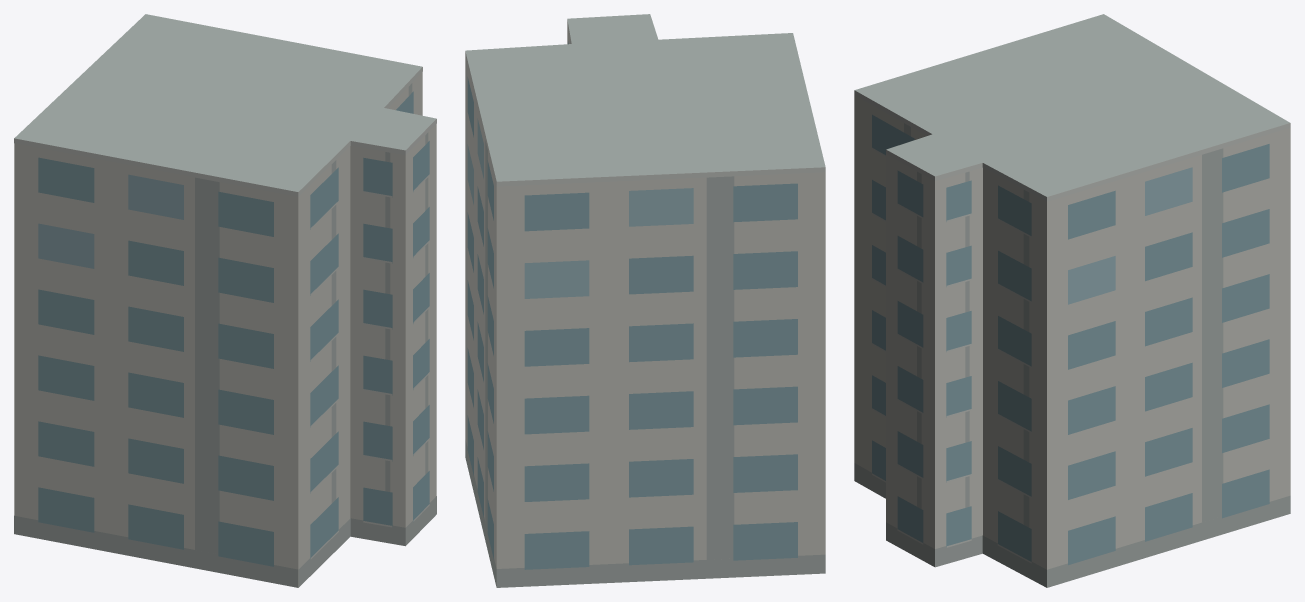
File: survey-upis-32677872.glb
The picture shows the model from 3 angles, left to right: view 1: azimuth 30°, elevation 25°; view 2: azimuth 150°, elevation 25°; view 3: azimuth 270°, elevation 25°; orthographic projection. The views are drawn at different scales.
Visible parts, largest first — view 1: survey-upis-32677872.tmp; view 2: survey-upis-32677872.tmp; view 3: survey-upis-32677872.tmp.
Part boxes in pixels (bbox=[...]): survey-upis-32677872.tmp: bbox=[14, 14, 436, 587]; survey-upis-32677872.tmp: bbox=[465, 14, 825, 587]; survey-upis-32677872.tmp: bbox=[854, 14, 1290, 587].
Bounding box in the file's own units: 19.57 × 19.47 × 19.69.
